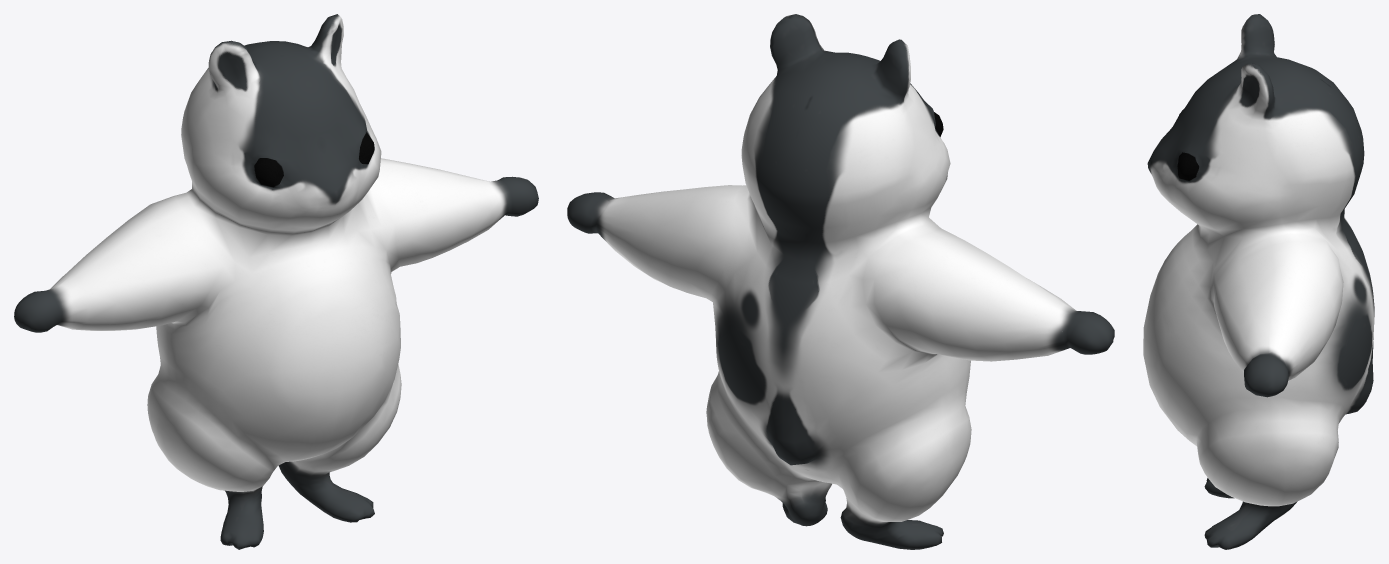
The model's file is hamster.fbx.
The picture shows the model from 3 angles, left to right: view 1: azimuth 30°, elevation 25°; view 2: azimuth 150°, elevation 25°; view 3: azimuth 270°, elevation 25°; orthographic projection. The views are drawn at different scales.
Visible parts, largest first — view 1: polySurface1; view 2: polySurface1; view 3: polySurface1.
Part boxes in pixels (<box>): polySurface1: <box>14,14,538,549</box>; polySurface1: <box>567,14,1114,549</box>; polySurface1: <box>1143,14,1374,549</box>.
Size of the model in its own units: 155 by 140 by 61.42.
